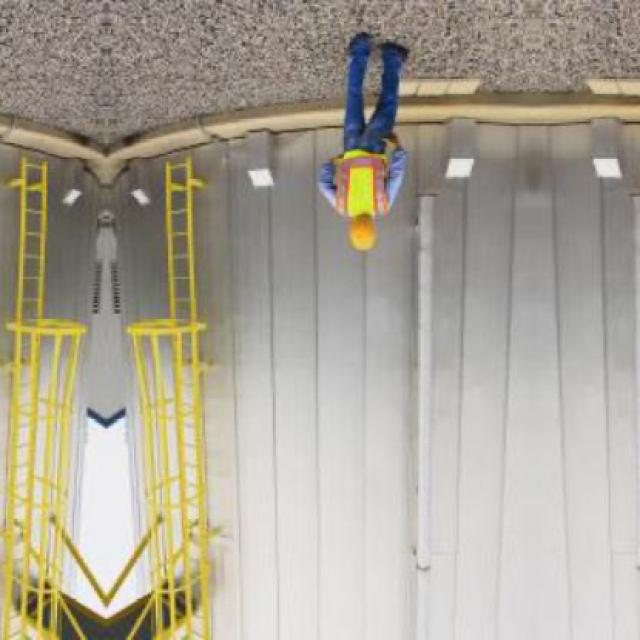con casco: (324, 198, 404, 284)
